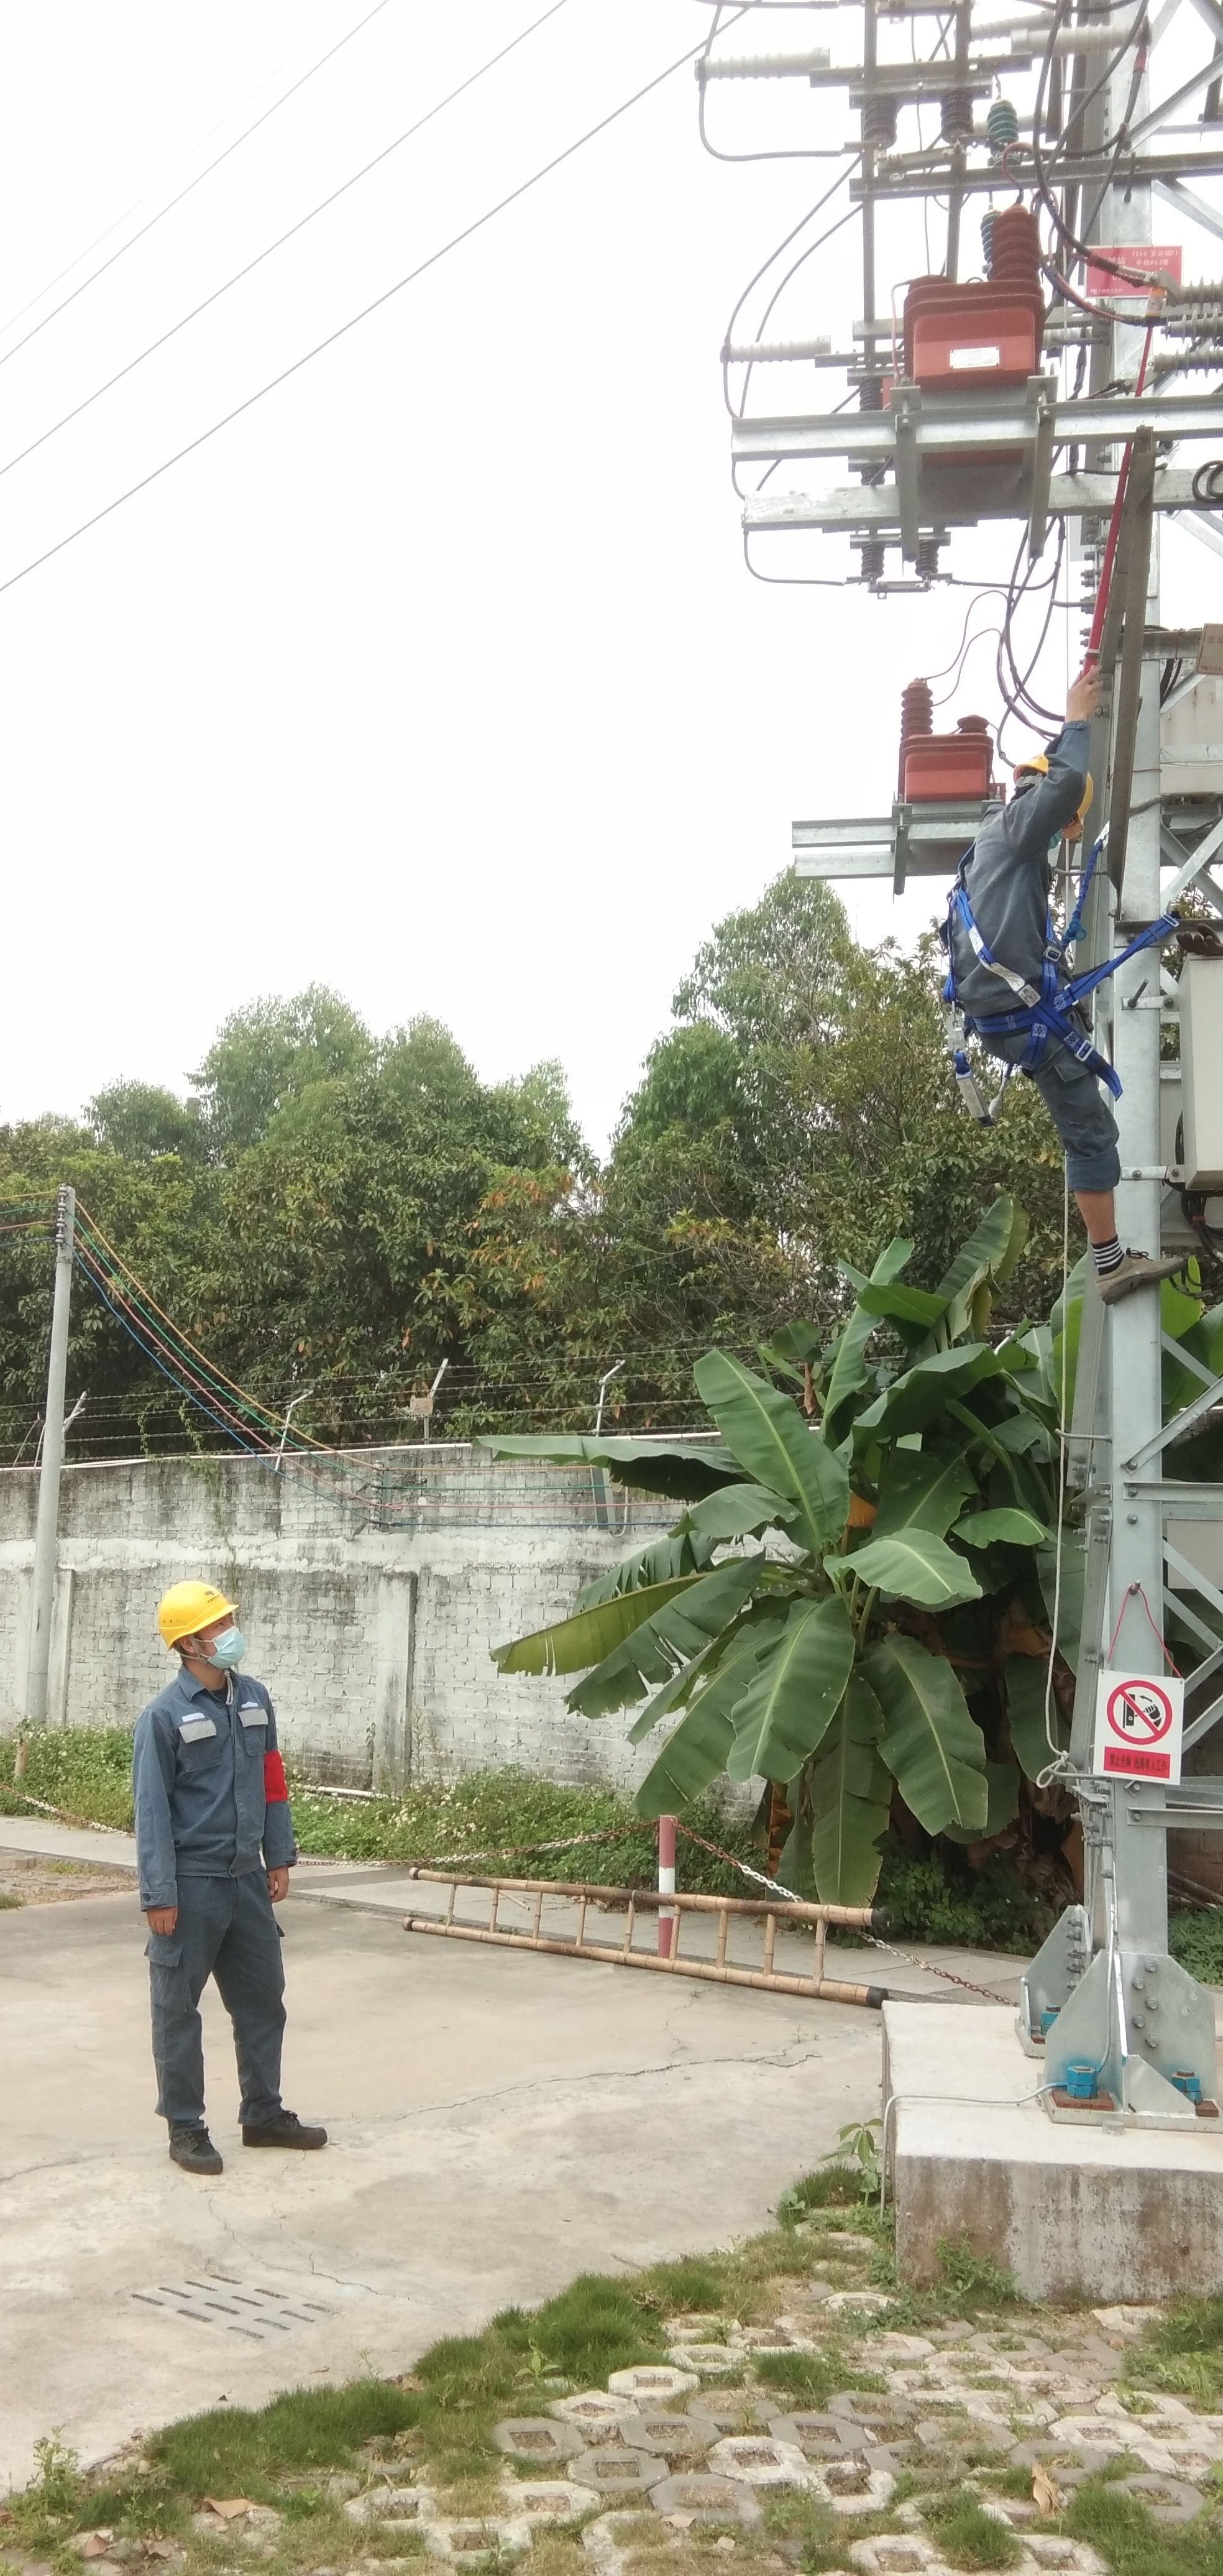downsuit: (983, 1014, 1133, 1252), (146, 1889, 294, 2124)
upsuit: (123, 1679, 300, 1886), (946, 821, 1062, 1005)
wrongbottom: (1060, 1142, 1131, 1267)
